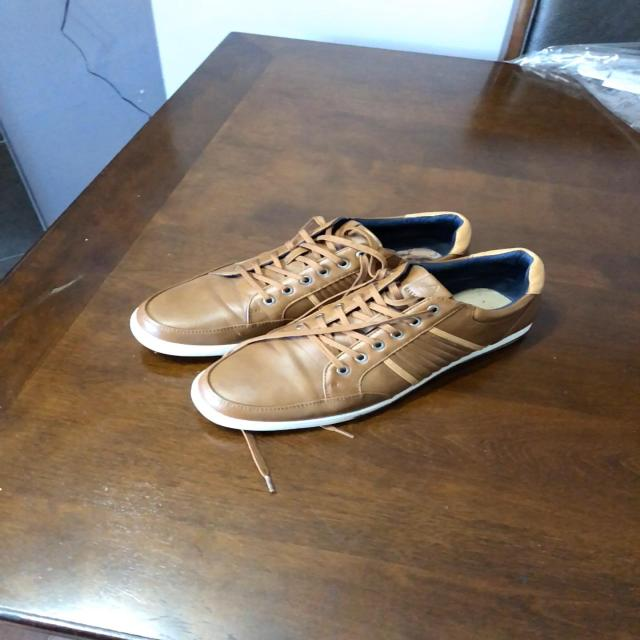shoe: (196, 249, 545, 425), (131, 214, 469, 353)
